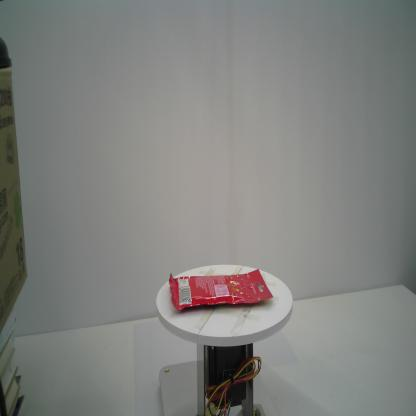Candy: (166, 265, 276, 312)
